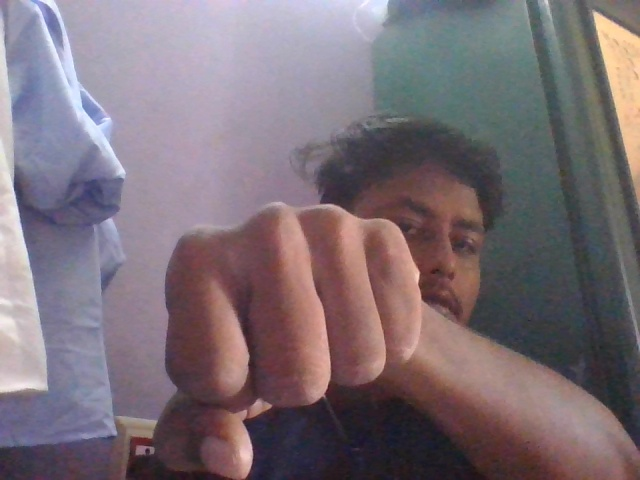yes: (146, 197, 448, 480)
